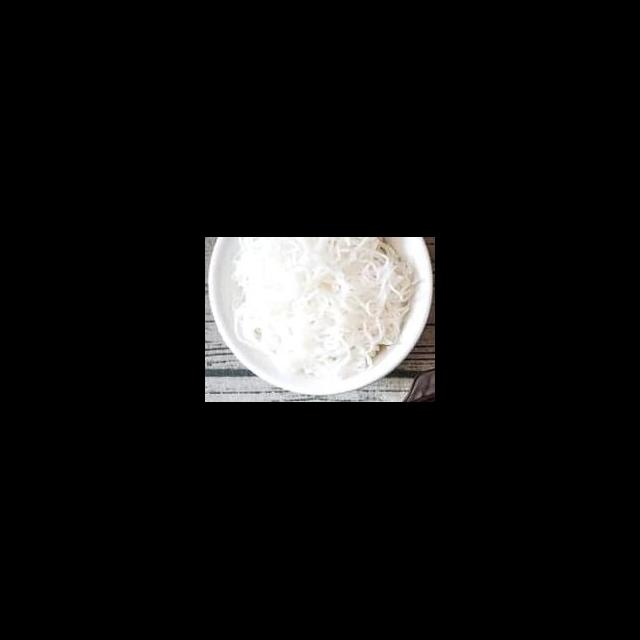bun: (225, 238, 422, 386)
